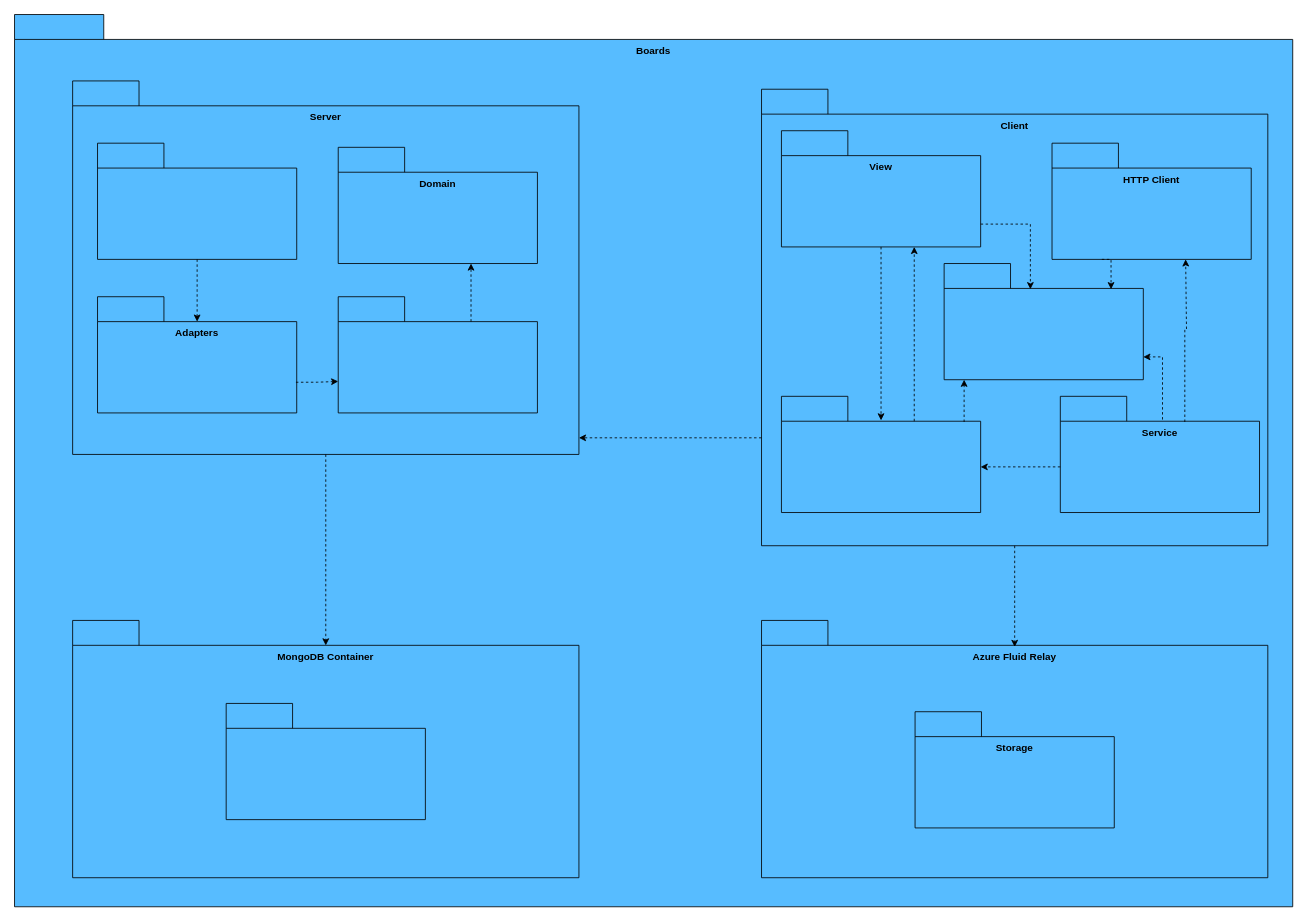
Image size: 1307x921. Some labels were removed from this diagram. Here are the shapes that lost their labels. From the top down, the centre of each, then its label:
pixel 197 200: Infrastructure
pixel 1043 321: DTO
pixel 437 354: Services
pixel 881 454: Component
pixel 325 761: mongoDB
